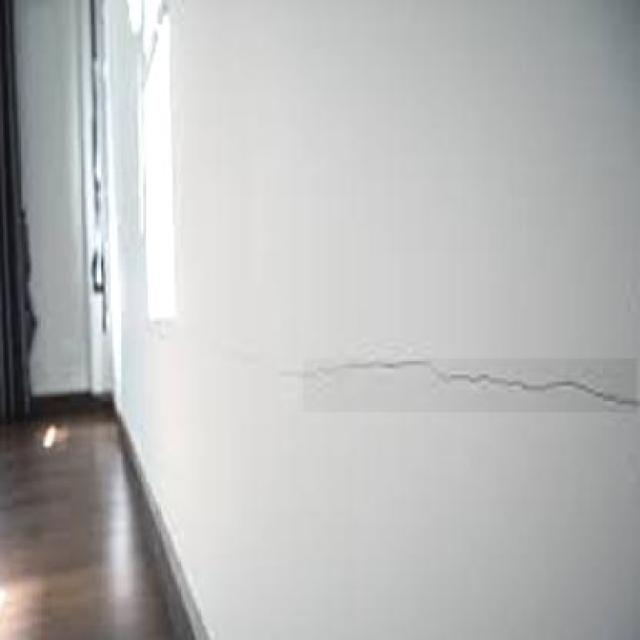Crack: (287, 353, 640, 420)
